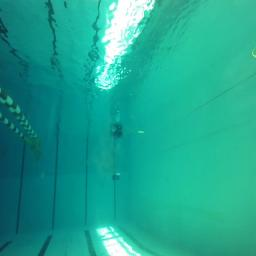Full: (110, 129, 122, 139), (112, 171, 122, 179)
